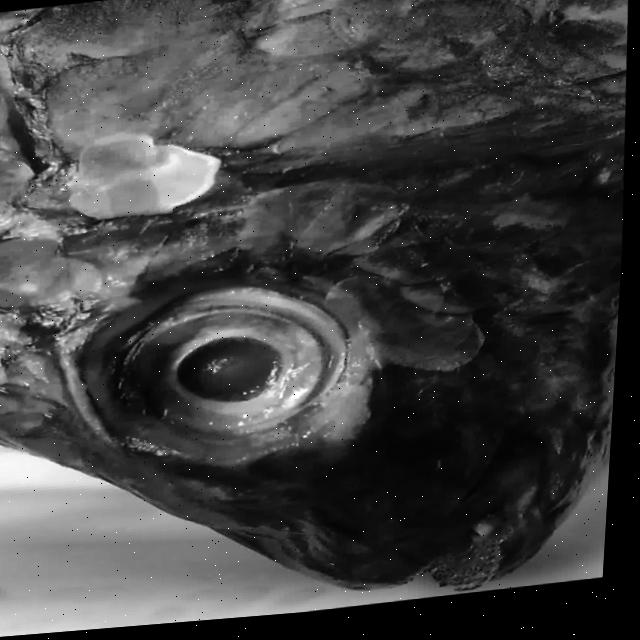Non-Fresh: (87, 259, 362, 491)
